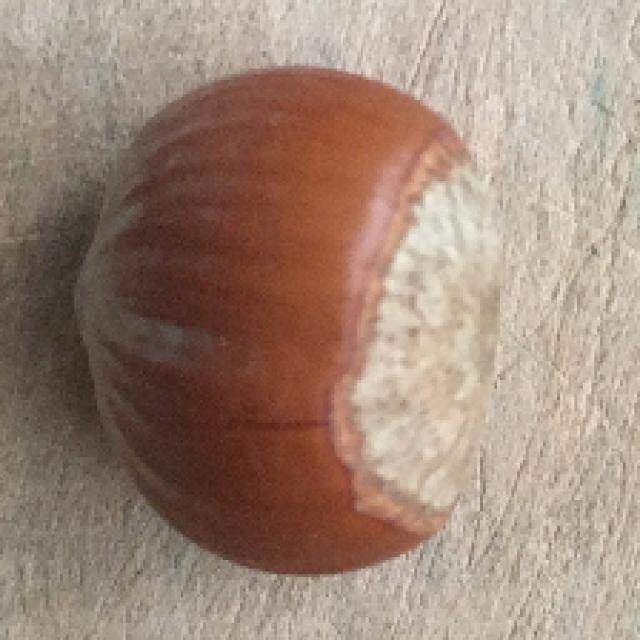qualityHazelnut: (77, 64, 506, 582)
